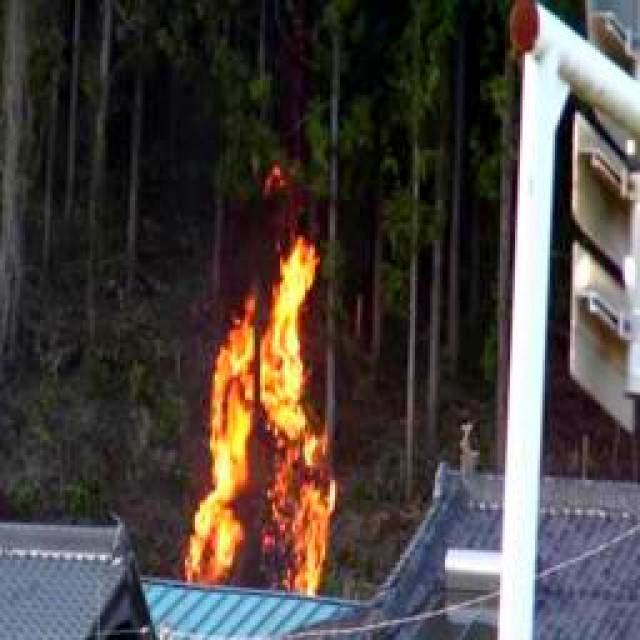fire: (185, 254, 339, 586)
